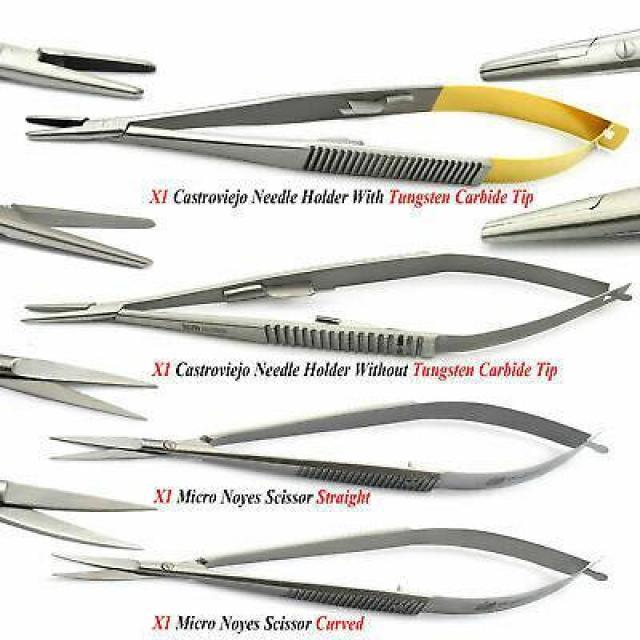Castroviejo: (19, 251, 635, 360), (22, 80, 632, 190), (3, 200, 158, 272), (478, 184, 640, 251), (2, 38, 158, 101), (478, 26, 640, 84)
Potts: (48, 396, 614, 494), (48, 523, 614, 619), (0, 474, 162, 554), (2, 349, 164, 422)
